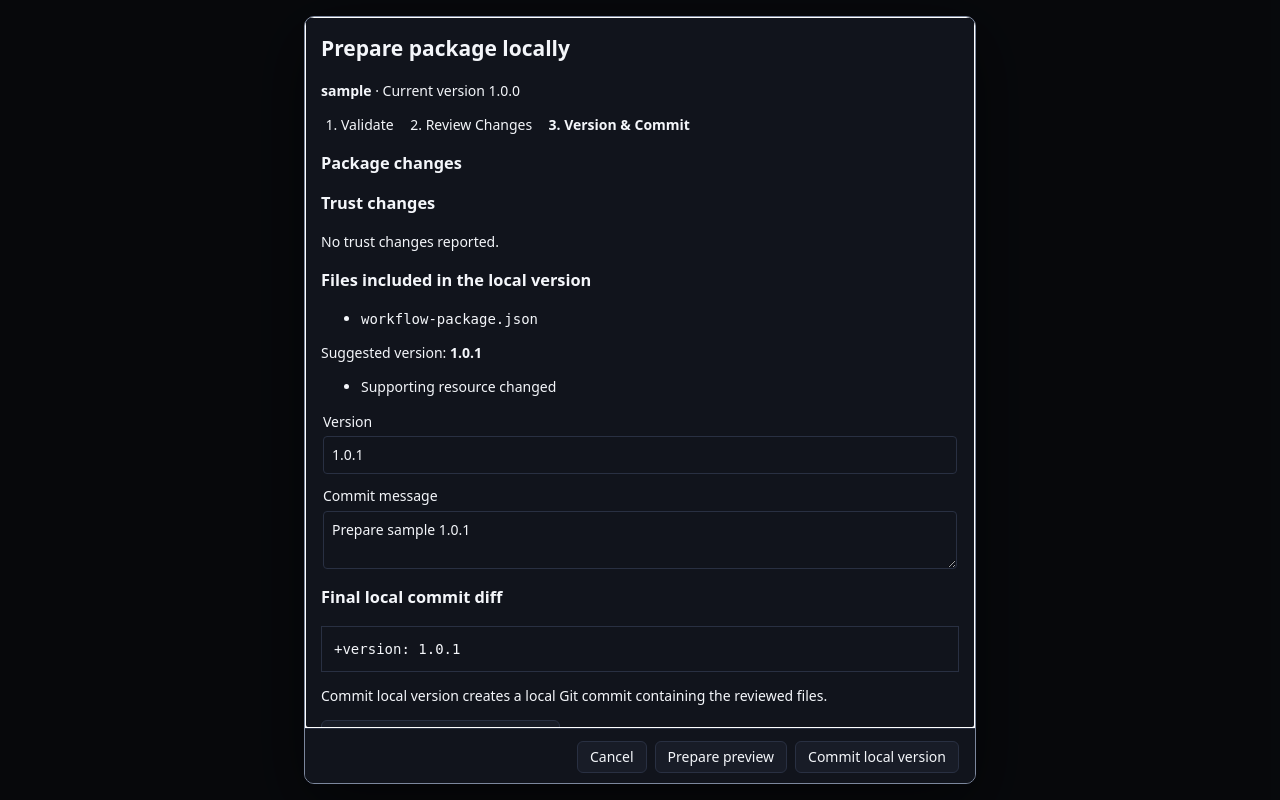
prevents duplicate submission and cancellation during an in-flight commit
Click the button "Commit local version" at (877, 757), box [795, 741, 959, 773]
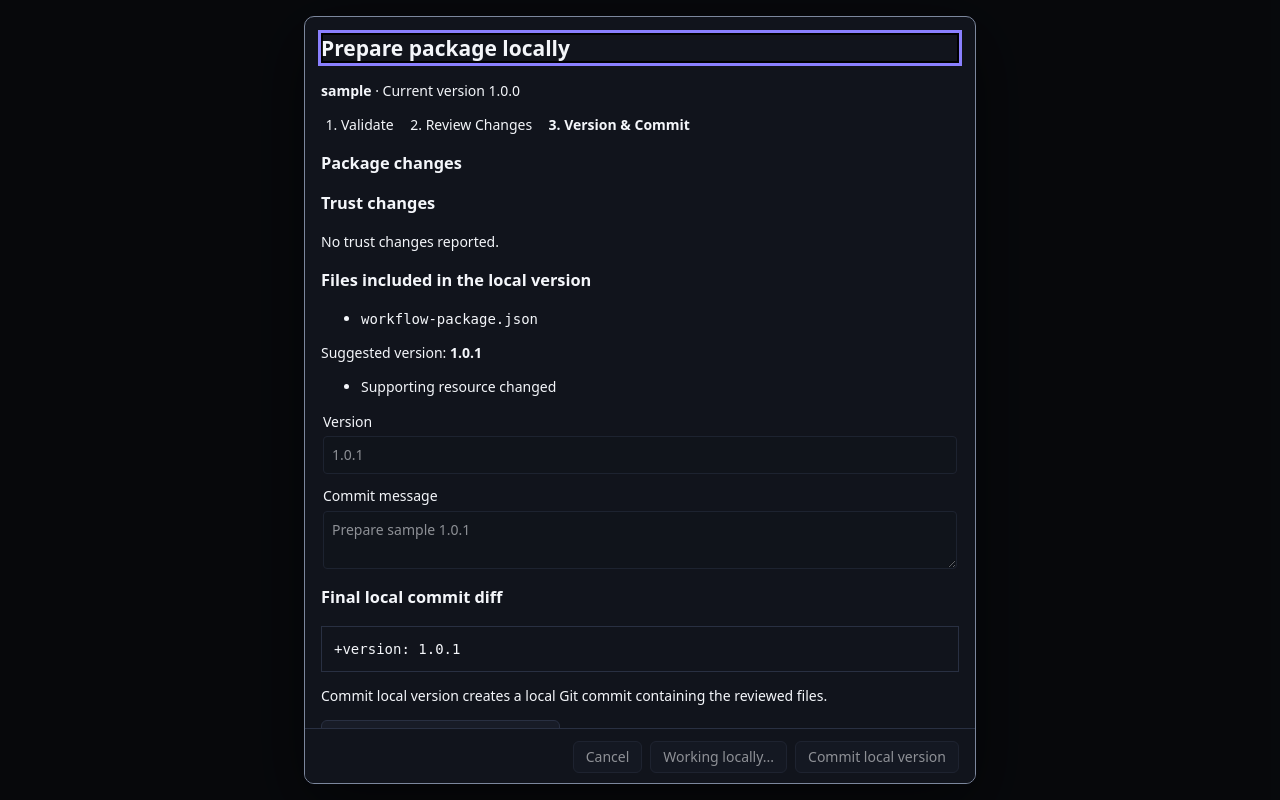
Check: the button "Cancel" is disabled, box [573, 741, 642, 773]
Press Escape in the dialog, box [304, 16, 976, 784]
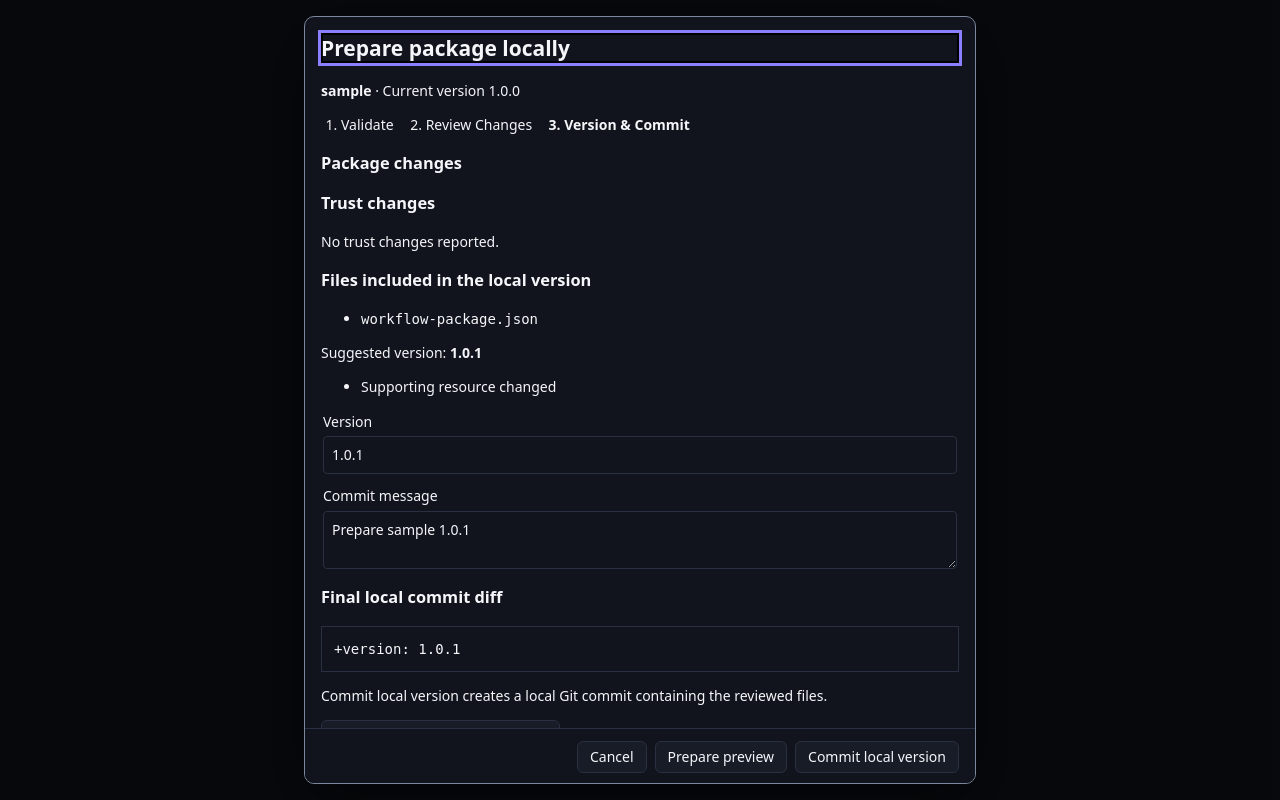
Check: the button "Cancel" is enabled, box [577, 741, 647, 773]
